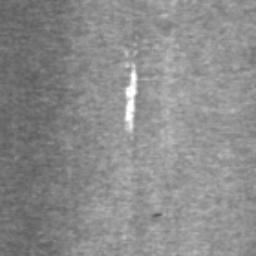White rust: (124, 62, 140, 132)
